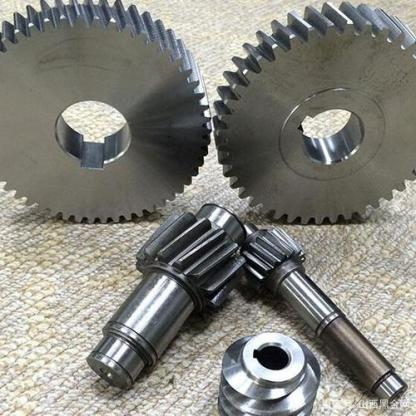FOD: (0, 0, 214, 228), (211, 0, 416, 229), (129, 215, 247, 320), (239, 224, 304, 300)
